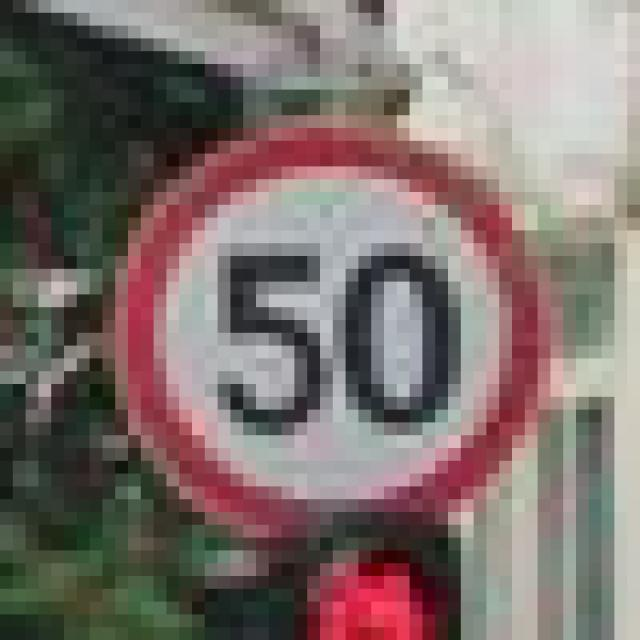speed_limit_30: (102, 102, 550, 538)
